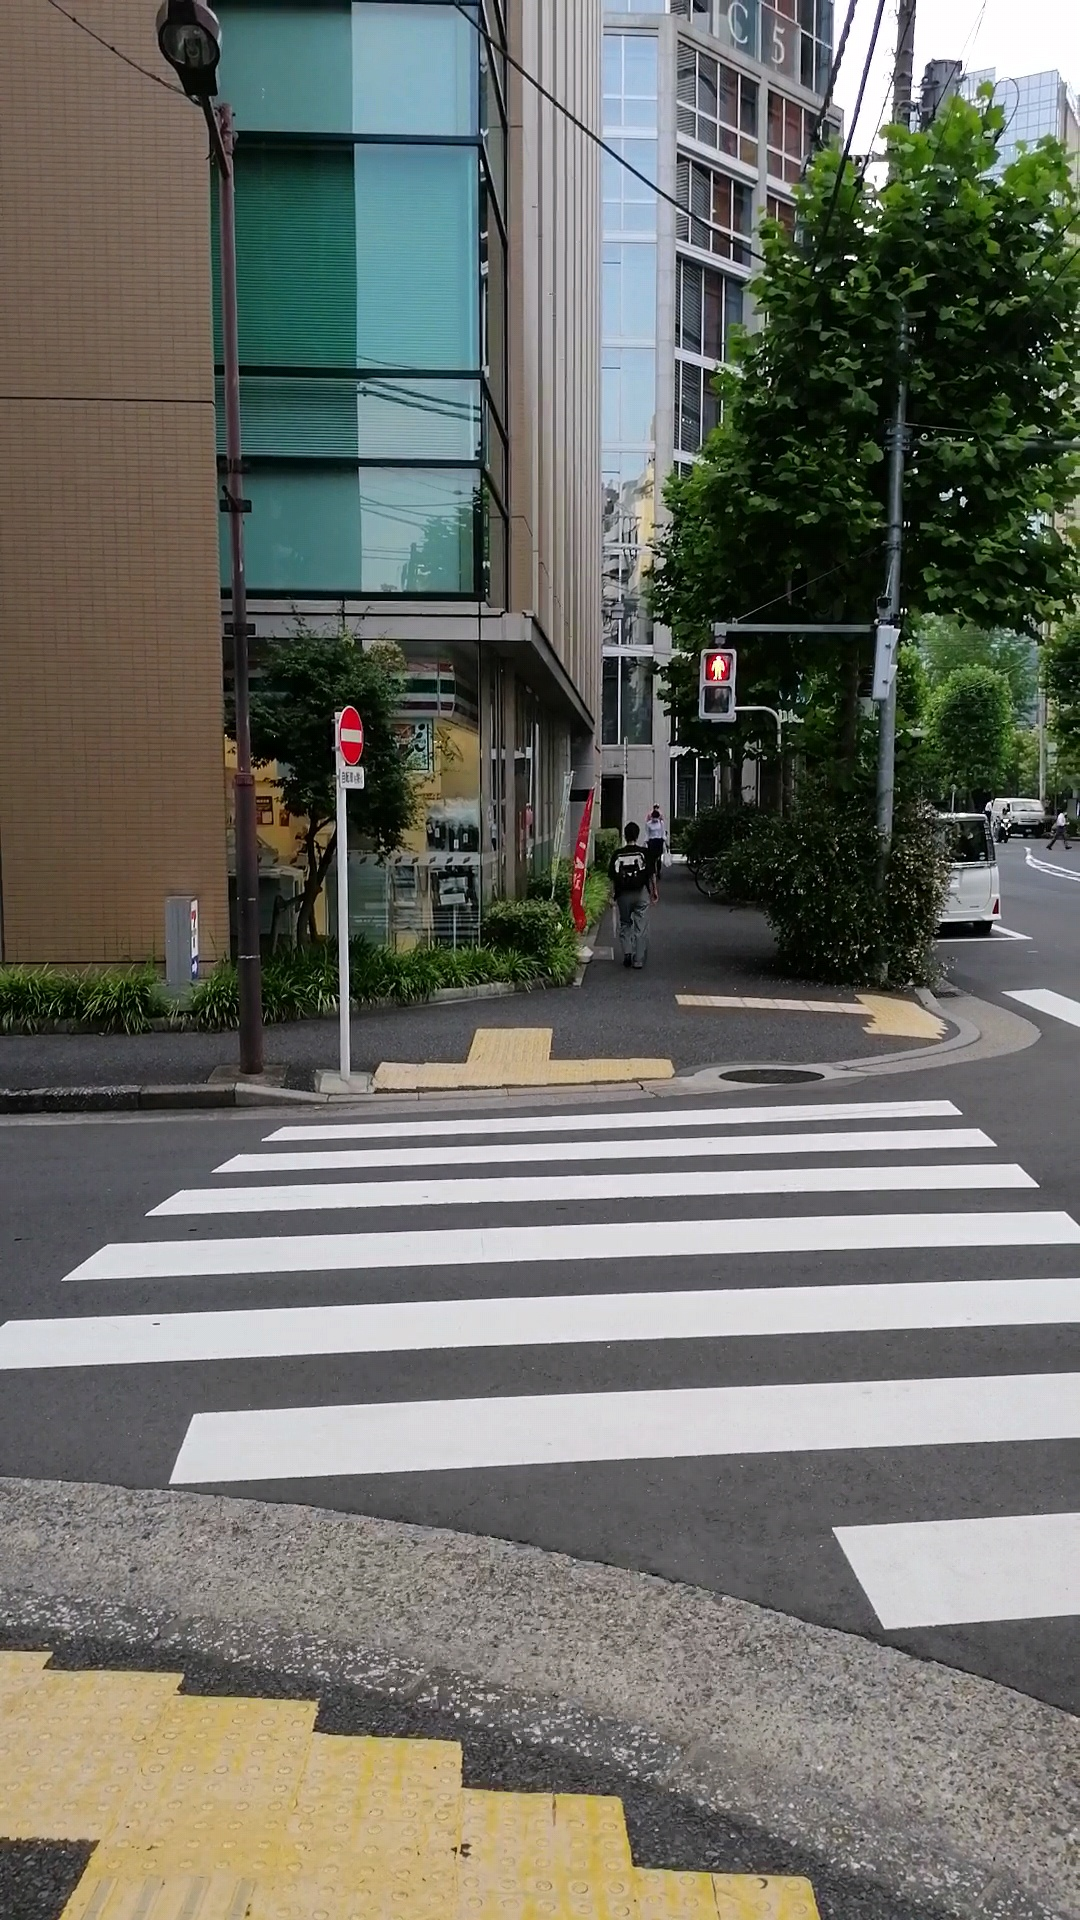red: (699, 646, 737, 724)
